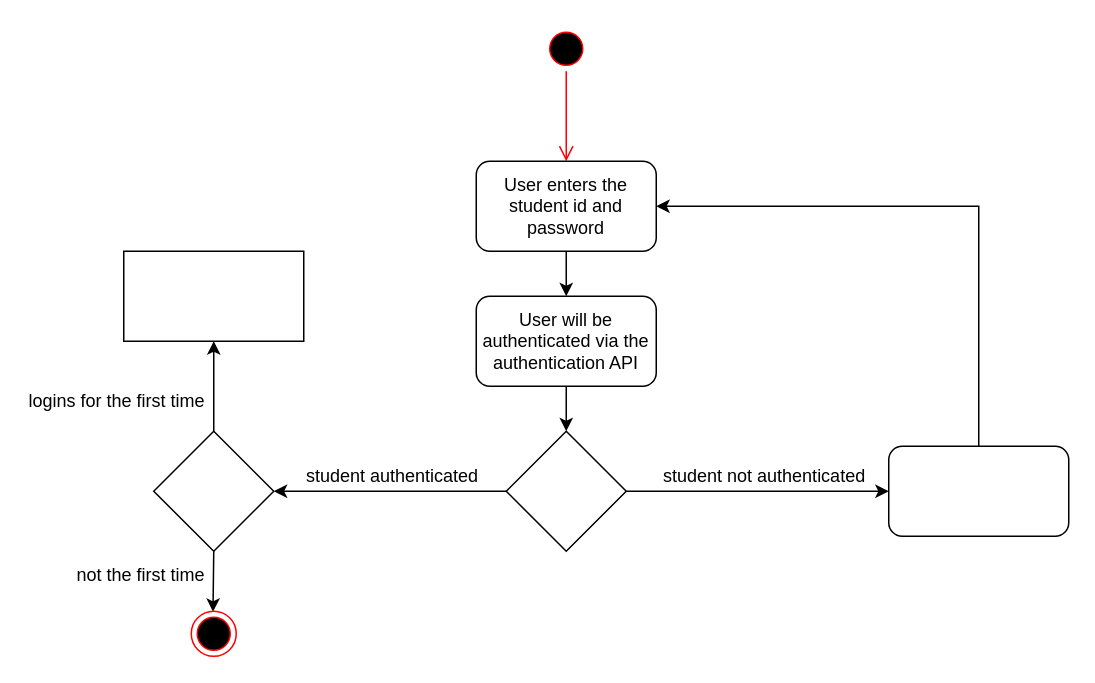
Some shapes in this 1095 by 683 pixel diagram are drawn without their labels. Here are the shapes that lost their labels. From the top down, the centre of each, then its label:
point (213, 295): Filling the form
point (978, 490): Shows an error
